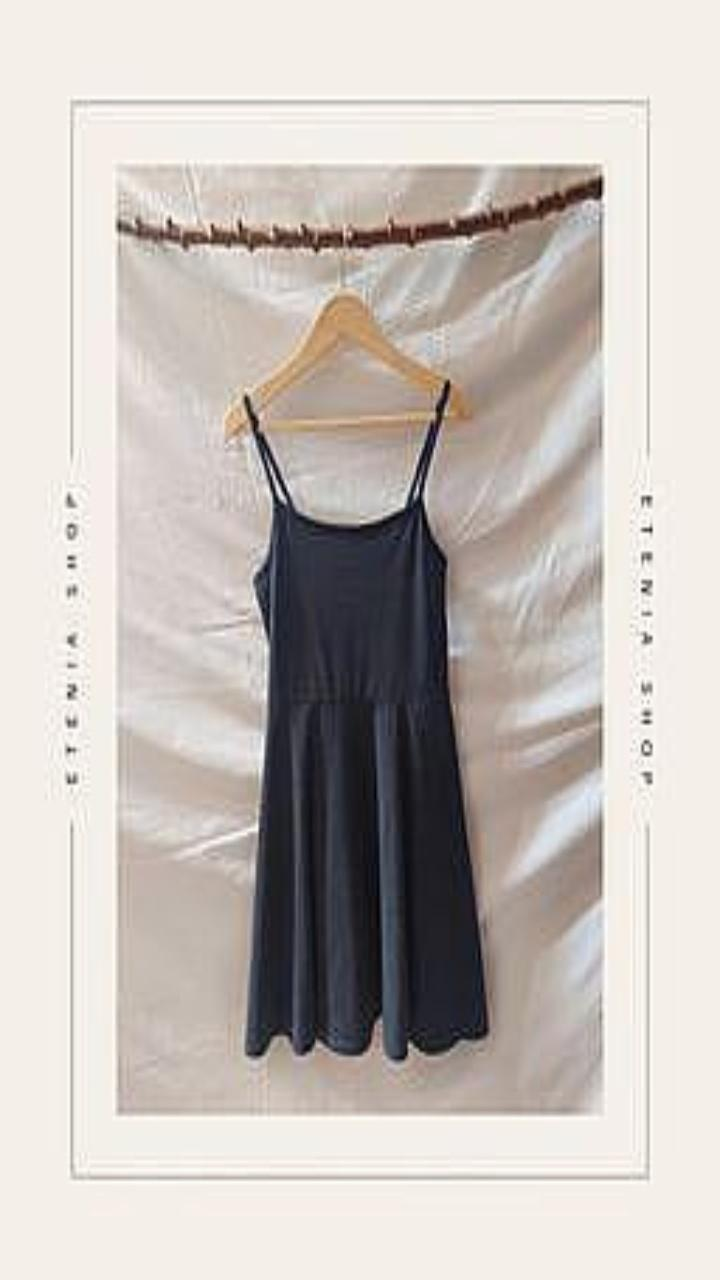Dresses: (244, 381, 487, 1059)
